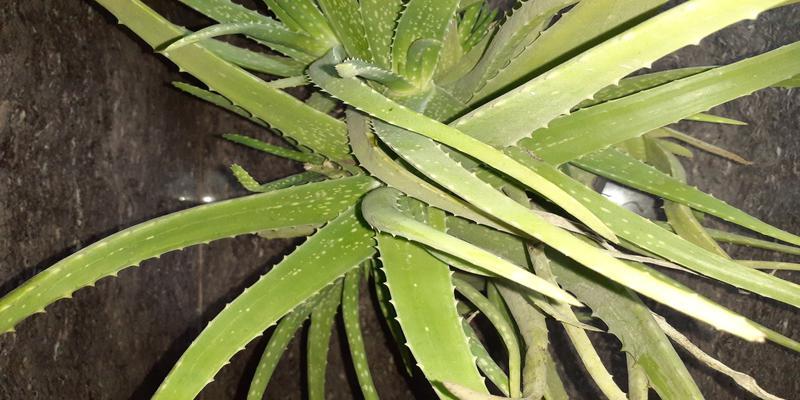Aloevera: (187, 13, 685, 349)
